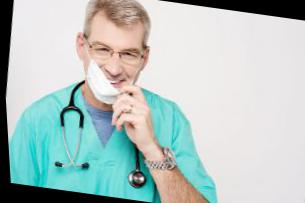WRONG: (75, 30, 147, 109)
